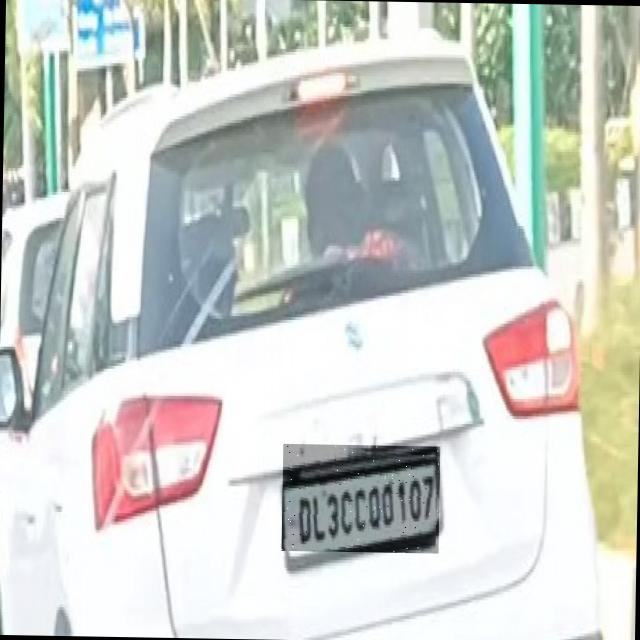Plate: (282, 444, 441, 554)
